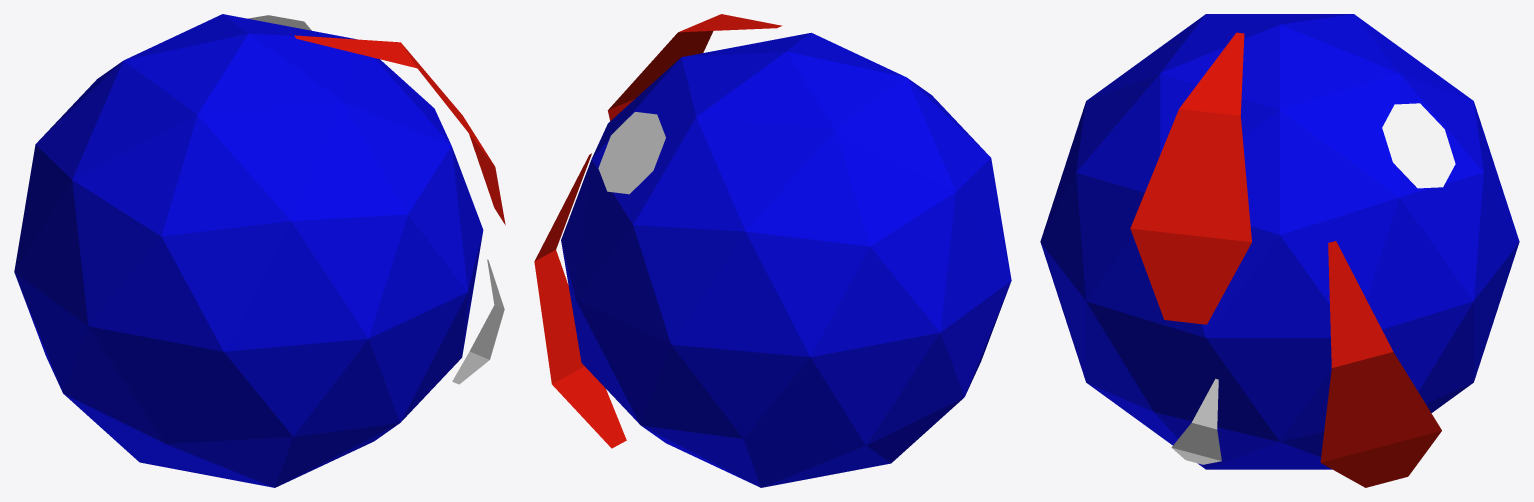
File: sonic_mars_ball.fbx
3 renders of one model, left to right at view 1: azimuth 30°, elevation 25°; view 2: azimuth 150°, elevation 25°; view 3: azimuth 270°, elevation 25°, orthographic. The views are drawn at different scales.
Visible parts, largest first — view 1: Icosphere, Plane, Plane.003; view 2: Icosphere, Plane.001, Plane.002, Plane; view 3: Icosphere, Plane, Plane.001, Plane.002, Plane.003.
Part boxes in pixels (x1,y1,x2,y2): Icosphere: [14, 14, 483, 487]; Plane: [294, 35, 505, 225]; Plane.003: [452, 259, 504, 384]; Icosphere: [561, 32, 1011, 487]; Plane.001: [534, 153, 626, 448]; Plane.002: [598, 112, 665, 194]; Plane: [607, 14, 782, 120]; Icosphere: [1040, 14, 1519, 469]; Plane: [1130, 32, 1251, 324]; Plane.001: [1320, 241, 1441, 487]; Plane.002: [1382, 103, 1455, 188]; Plane.003: [1171, 378, 1221, 464].
Size of the model in its own units: 198 by 202 by 200.
